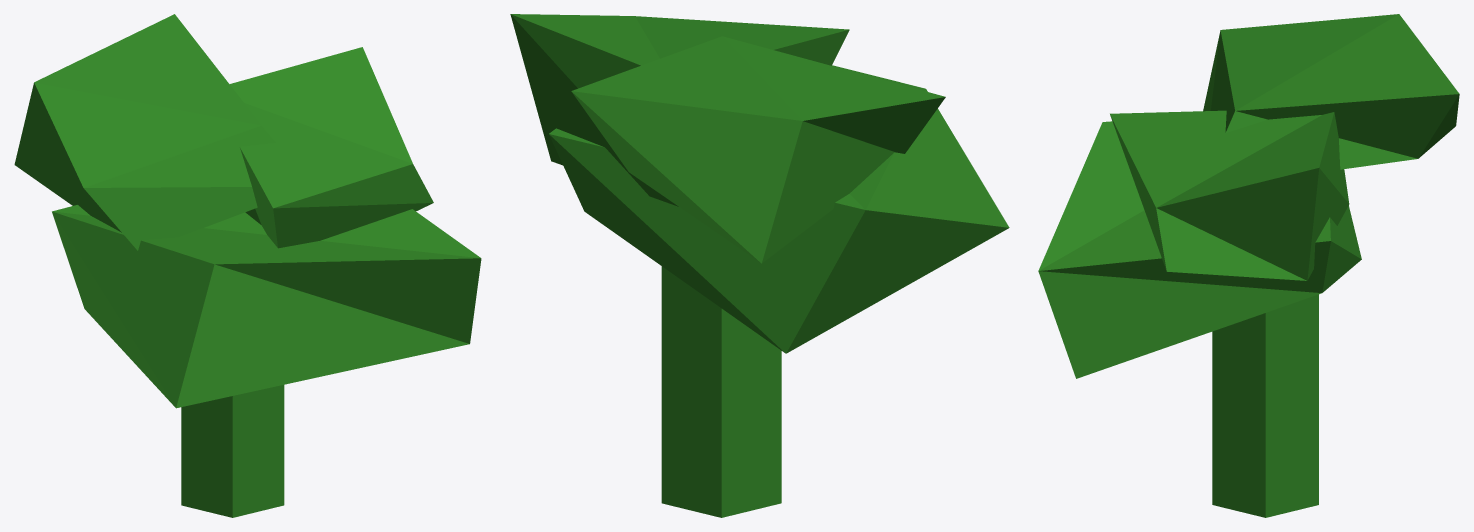
The model's file is tree_broadleaf.obj.
The picture shows the model from 3 angles, left to right: view 1: azimuth 30°, elevation 25°; view 2: azimuth 150°, elevation 25°; view 3: azimuth 270°, elevation 25°; orthographic projection. The views are drawn at different scales.
Size of the model in its own units: 0.3171 by 0.3723 by 0.3418.
